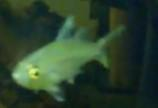Glass Perchlet: (11, 16, 124, 103)
